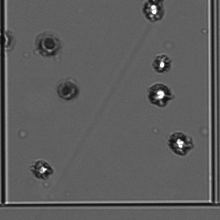Dead Cell: (37, 33, 60, 55), (56, 80, 80, 101), (1, 30, 18, 51)
Living Cell: (147, 82, 174, 108), (168, 131, 194, 157), (142, 1, 165, 22), (31, 159, 53, 179), (152, 54, 172, 73)
